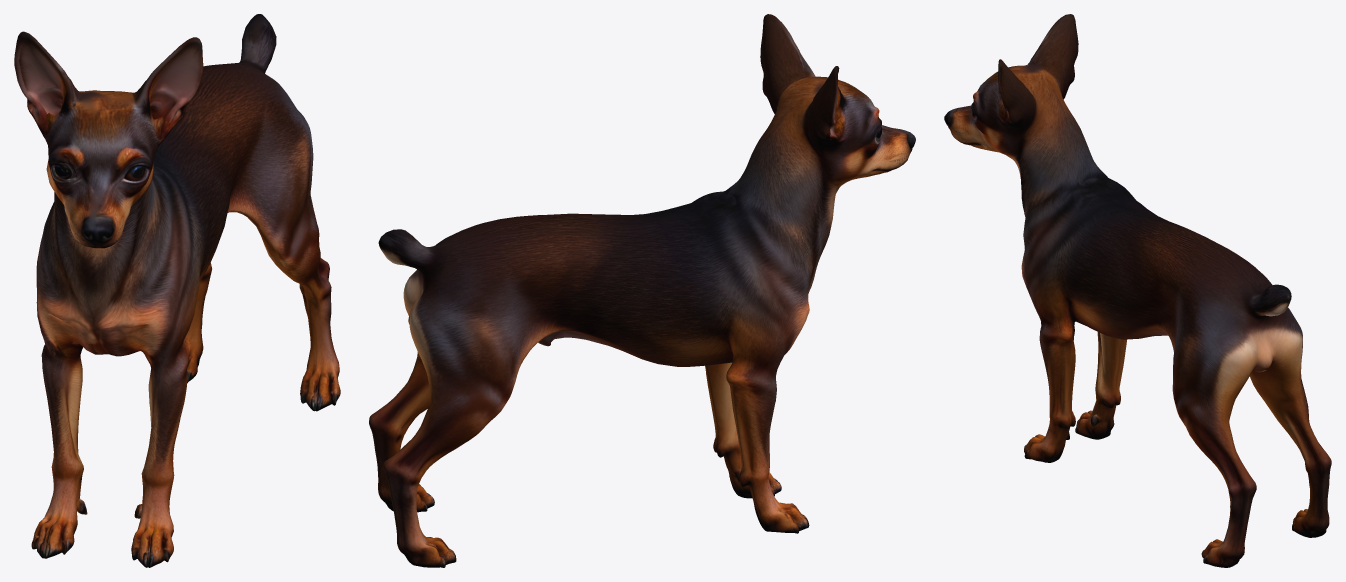
File: miniature_pinscher.glb
The picture shows the model from 3 angles, left to right: view 1: azimuth 30°, elevation 25°; view 2: azimuth 150°, elevation 25°; view 3: azimuth 270°, elevation 25°; orthographic projection. The views are drawn at different scales.
Visible parts, largest first — view 1: material.001; view 2: material.001; view 3: material.001.
Boxes of the visible parts, left/top/right/bottom form: material.001: left=14, top=14, right=340, bottom=567; material.001: left=369, top=14, right=915, bottom=567; material.001: left=944, top=14, right=1331, bottom=567.
Size of the model in its own units: 0.7434 by 0.8696 by 0.7566.
1 material, 1 textured.
